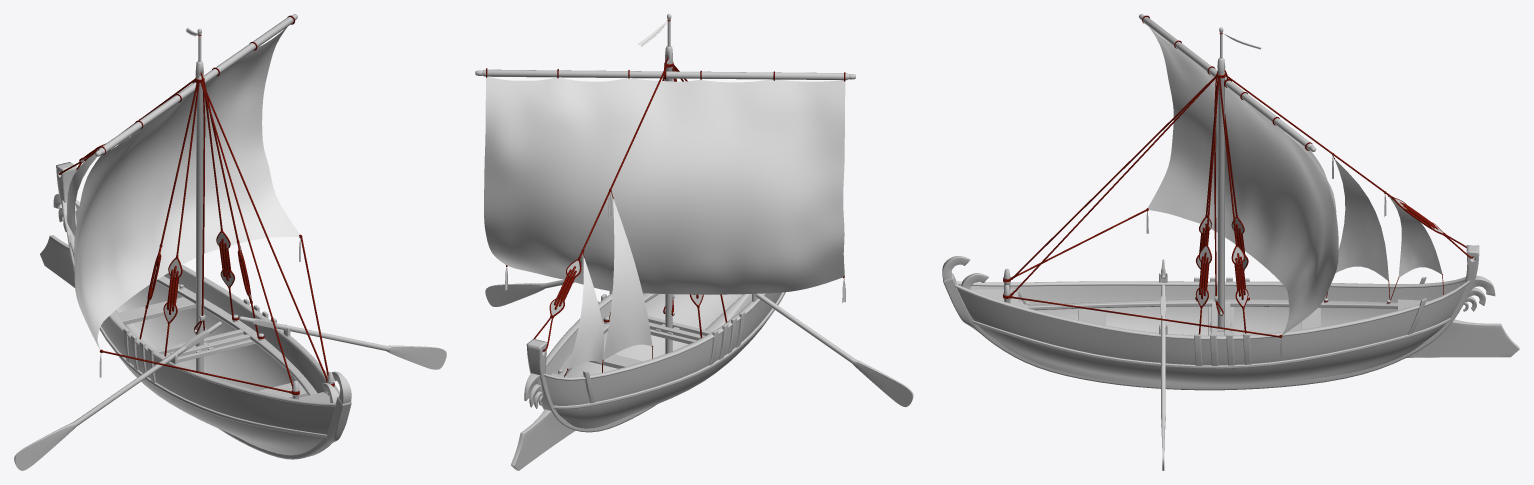
File: FantasyFishingBoat.fbx
3 renders of one model, left to right at view 1: azimuth 30°, elevation 25°; view 2: azimuth 150°, elevation 25°; view 3: azimuth 270°, elevation 25°, orthographic. The views are drawn at different scales.
Visible parts, largest first — view 1: Sails, Hull, Ropes, Mast, Seats, Oar_L, Oar_R, Front, Ribs, Tail; view 2: Sails, Hull, Mast, Front, Ropes, Oar_L, Seats, Oar_R, Ribs; view 3: Hull, Sails, Ropes, Mast, Front, Seats, Ribs, Oar_R, Stern, Tail.
Part boxes in pixels (x1,y1,x2,y2): Sails: [66, 27, 299, 349]; Hull: [56, 162, 351, 459]; Ropes: [59, 15, 334, 395]; Mast: [95, 14, 297, 372]; Seats: [117, 297, 307, 398]; Oar_L: [14, 321, 221, 470]; Oar_R: [239, 316, 446, 369]; Front: [40, 193, 77, 287]; Ribs: [67, 231, 276, 382]; Tail: [322, 371, 351, 403]; Sails: [484, 76, 845, 368]; Hull: [526, 292, 785, 432]; Mast: [475, 14, 855, 353]; Front: [511, 373, 575, 470]; Ropes: [486, 20, 845, 377]; Oar_L: [755, 293, 913, 407]; Seats: [588, 316, 712, 368]; Oar_R: [485, 279, 574, 306]; Ribs: [583, 291, 745, 403]; Hull: [943, 245, 1479, 390]; Sails: [1148, 27, 1442, 335]; Ropes: [1003, 15, 1473, 337]; Mast: [1139, 14, 1316, 327]; Front: [1406, 275, 1519, 357]; Seats: [1078, 303, 1320, 335]; Ribs: [1194, 277, 1426, 365]; Oar_R: [1160, 284, 1165, 470]; Stern: [971, 268, 1428, 310]; Tail: [942, 256, 988, 289].
Bounding box in the file's own units: 642 × 788 × 543.
